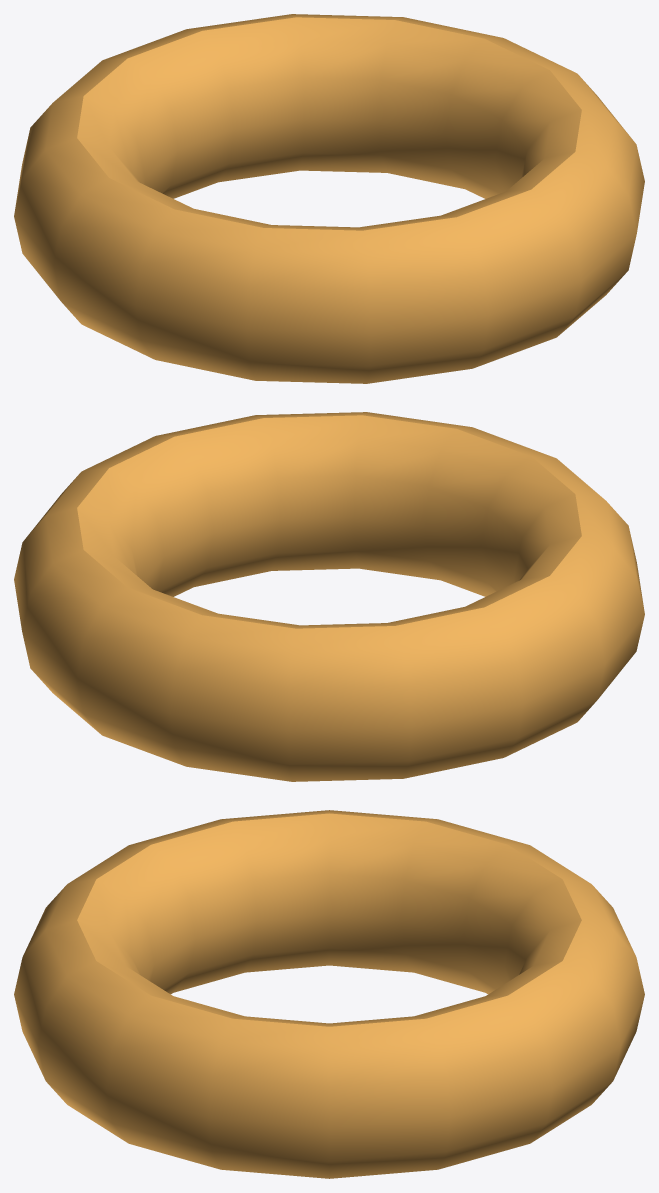
The picture shows the model from 3 angles, top to bottom: view 1: azimuth 30°, elevation 25°; view 2: azimuth 150°, elevation 25°; view 3: azimuth 270°, elevation 25°; orthographic projection.
Parts seen in each view (by area): view 1: Torus_02; view 2: Torus_02; view 3: Torus_02.
Boxes of the visible parts, bbox=[...] form: Torus_02: bbox=[14, 14, 644, 383]; Torus_02: bbox=[14, 412, 644, 781]; Torus_02: bbox=[14, 810, 644, 1178].
Bounding box in the file's own units: 375 × 97.5 × 375.
